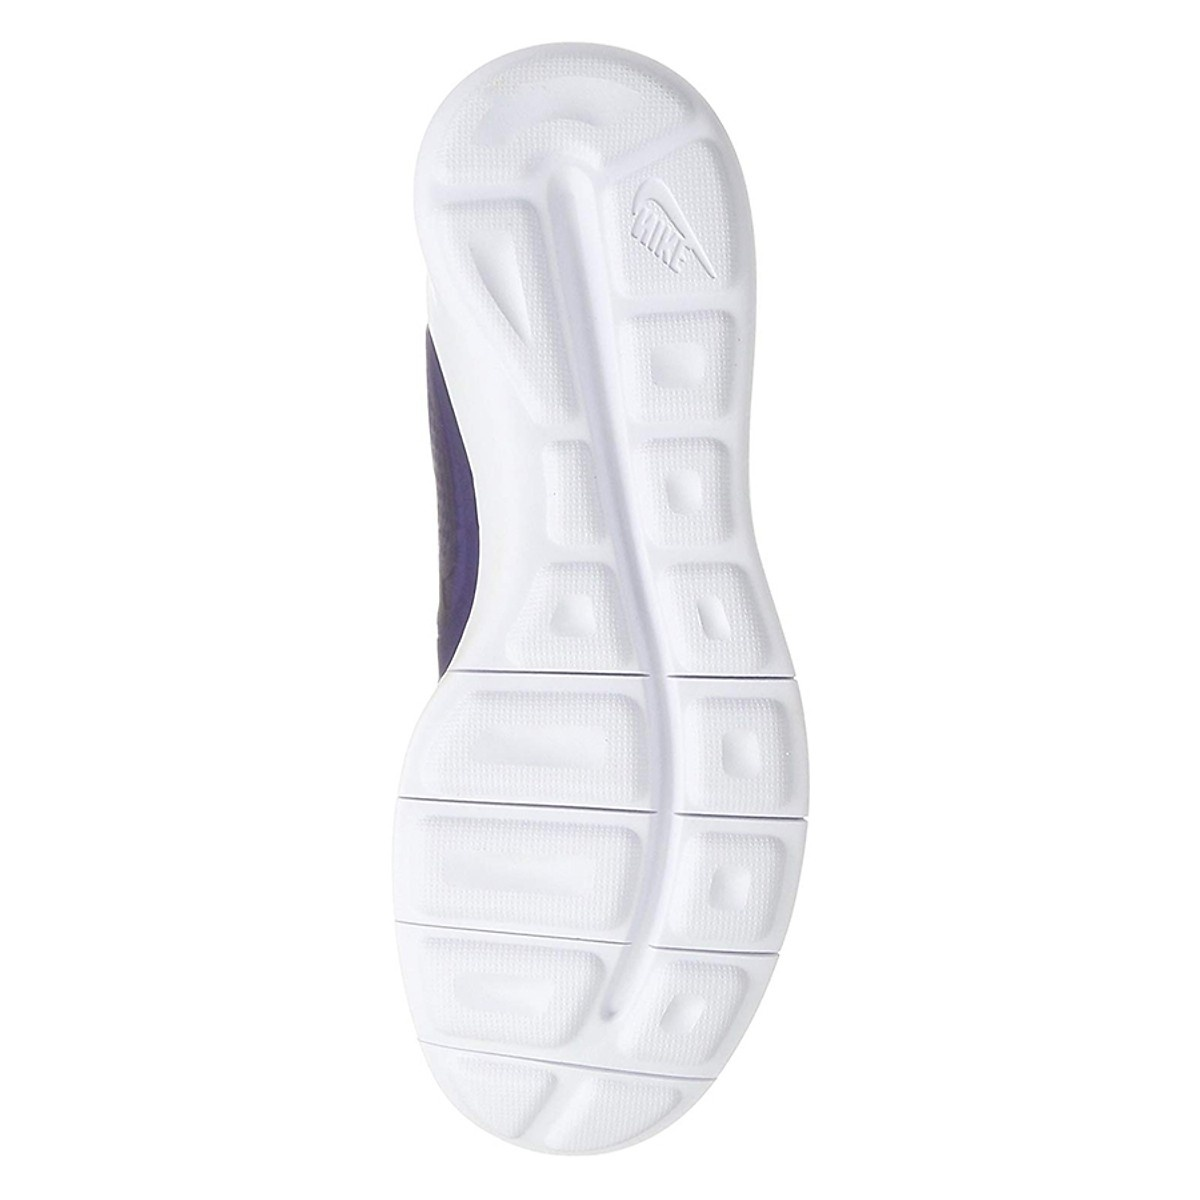Nike: (573, 101, 855, 325)
